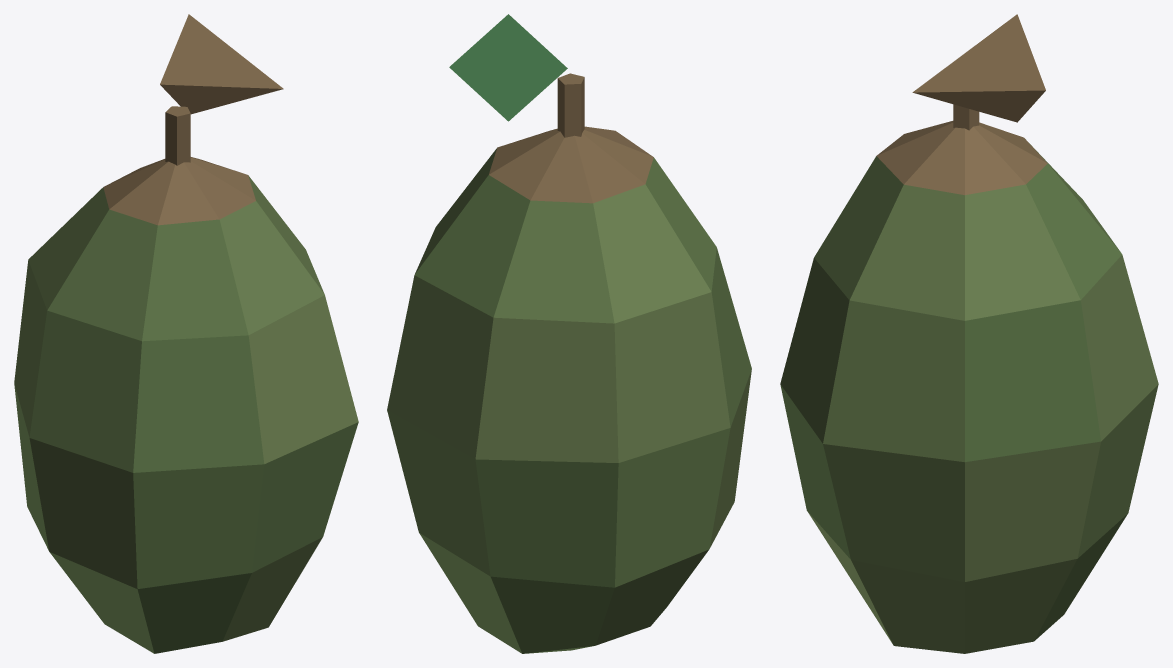
Rendered from Avocado.glb.
3 renders of one model, left to right at view 1: azimuth 30°, elevation 25°; view 2: azimuth 150°, elevation 25°; view 3: azimuth 270°, elevation 25°, orthographic. The views are drawn at different scales.
Parts seen in each view (by area): view 1: Avocado; view 2: Avocado; view 3: Avocado.
Part boxes in pixels (<box>): Avocado: <box>14,14,358,653</box>; Avocado: <box>387,14,751,653</box>; Avocado: <box>780,14,1158,653</box>.
Bounding box in the file's own units: 0.3088 × 0.6 × 0.3158.
